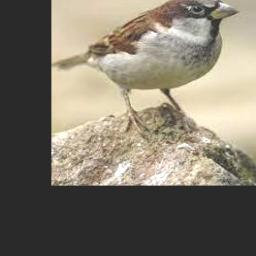Sparrow: (51, 0, 240, 133)
